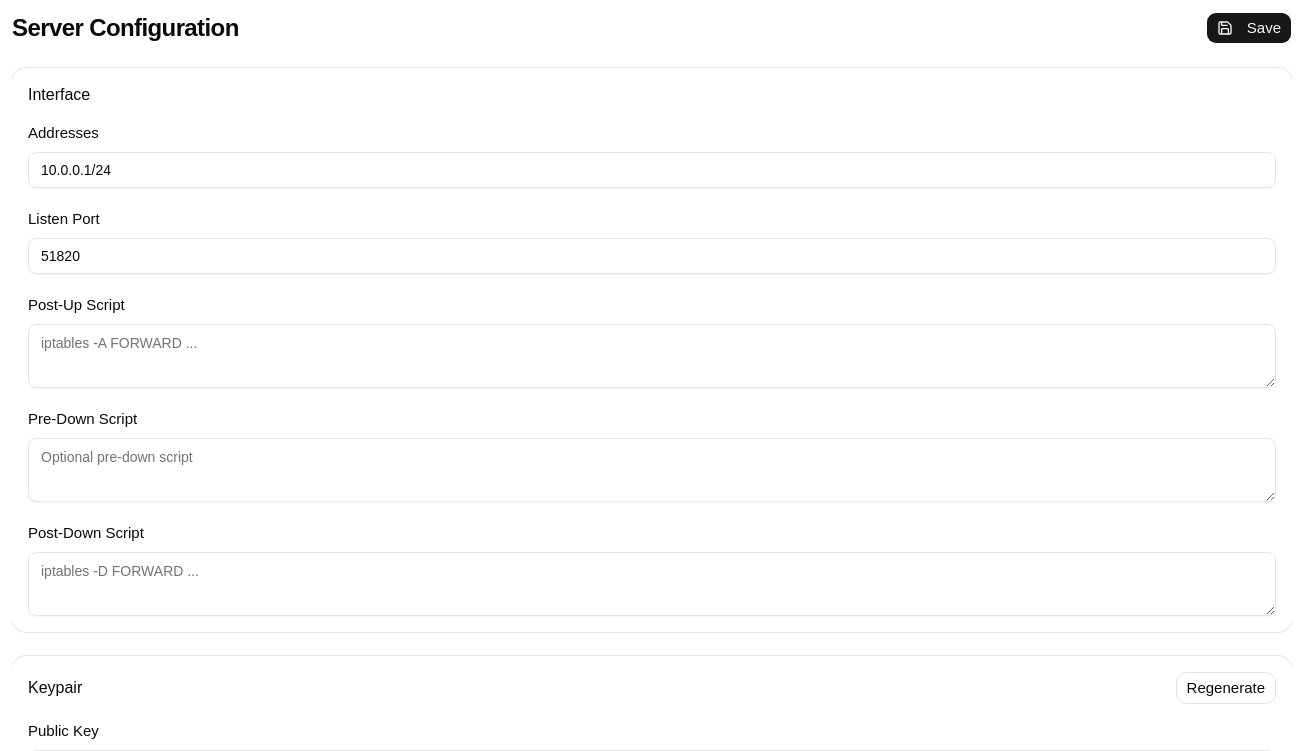
Test case: ServerPage interactions › shows validation error for invalid CIDR addresses
Replace the text in the field named "Server addresses" with "not-a-cidr" at (652, 170), box [28, 152, 1276, 188]
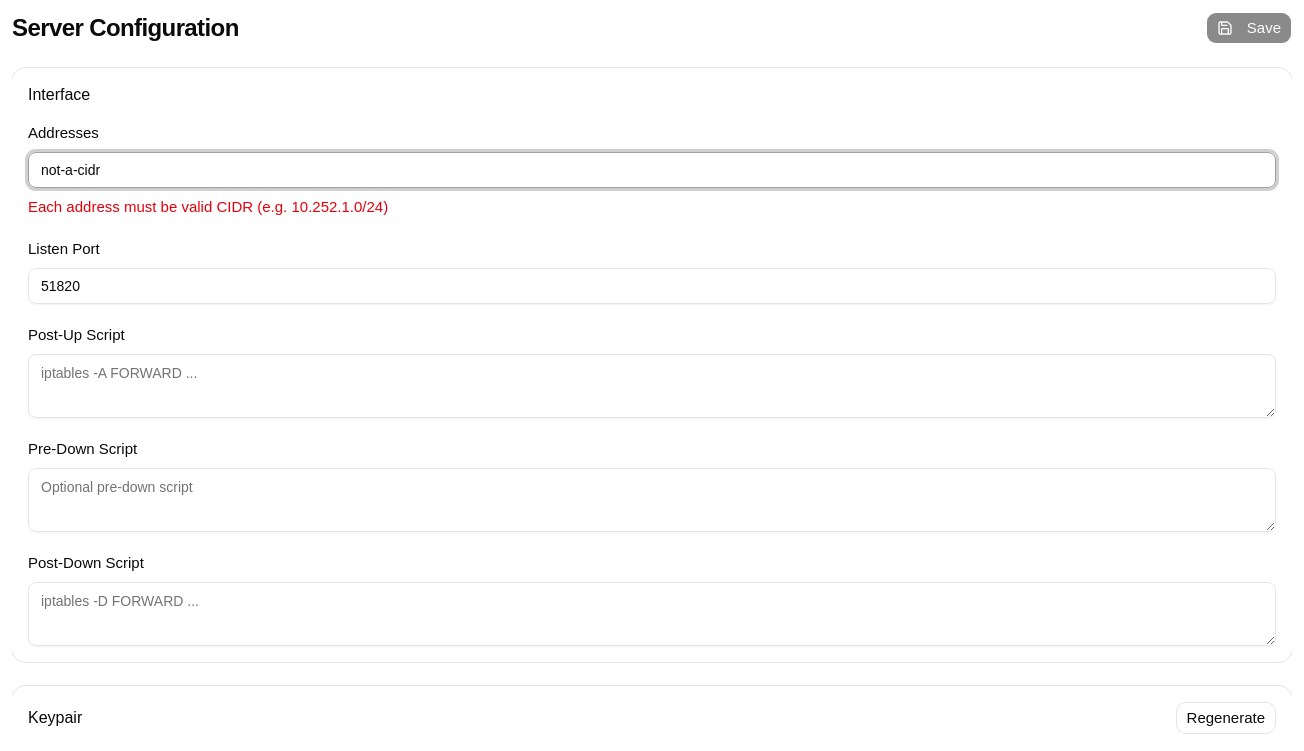
Result: the text "Each address must be valid CIDR (e.g. 10.252.1.0/24)" is shown at [28, 198, 388, 215]
